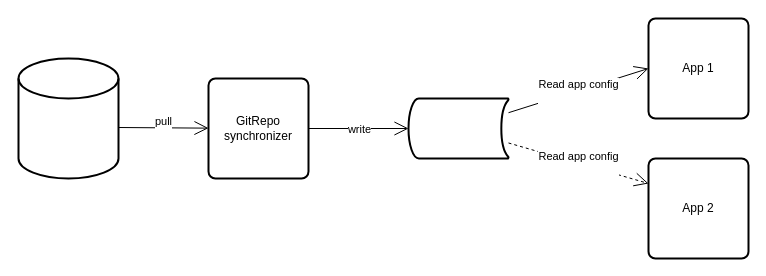
Image size: 766x276. Some labels were removed from this diagram. Here are the shapes that lost their labels. From the top down, the box of each, then its label:
(17, 57, 119, 179): Git repository: App config
(407, 97, 509, 159): Storage volume: /var/gitRepo
